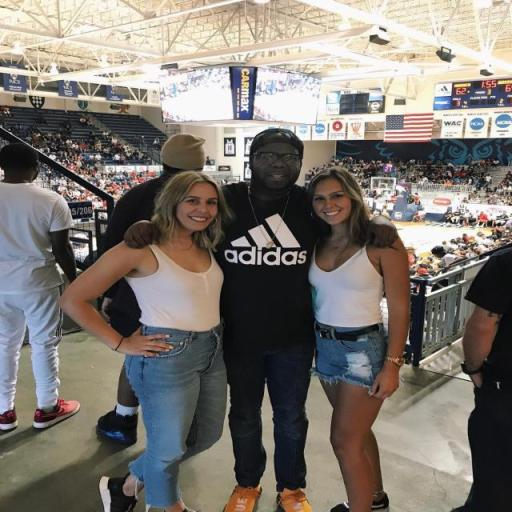Adidas: (222, 213, 309, 267)
